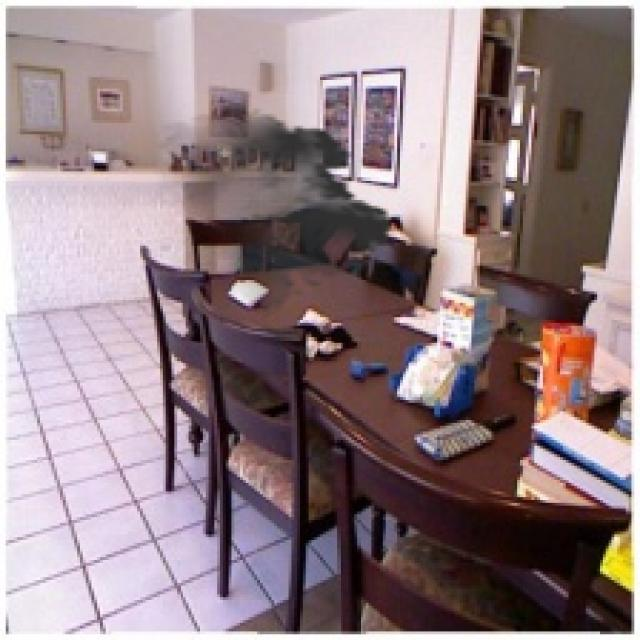smoke: (146, 109, 403, 317)
